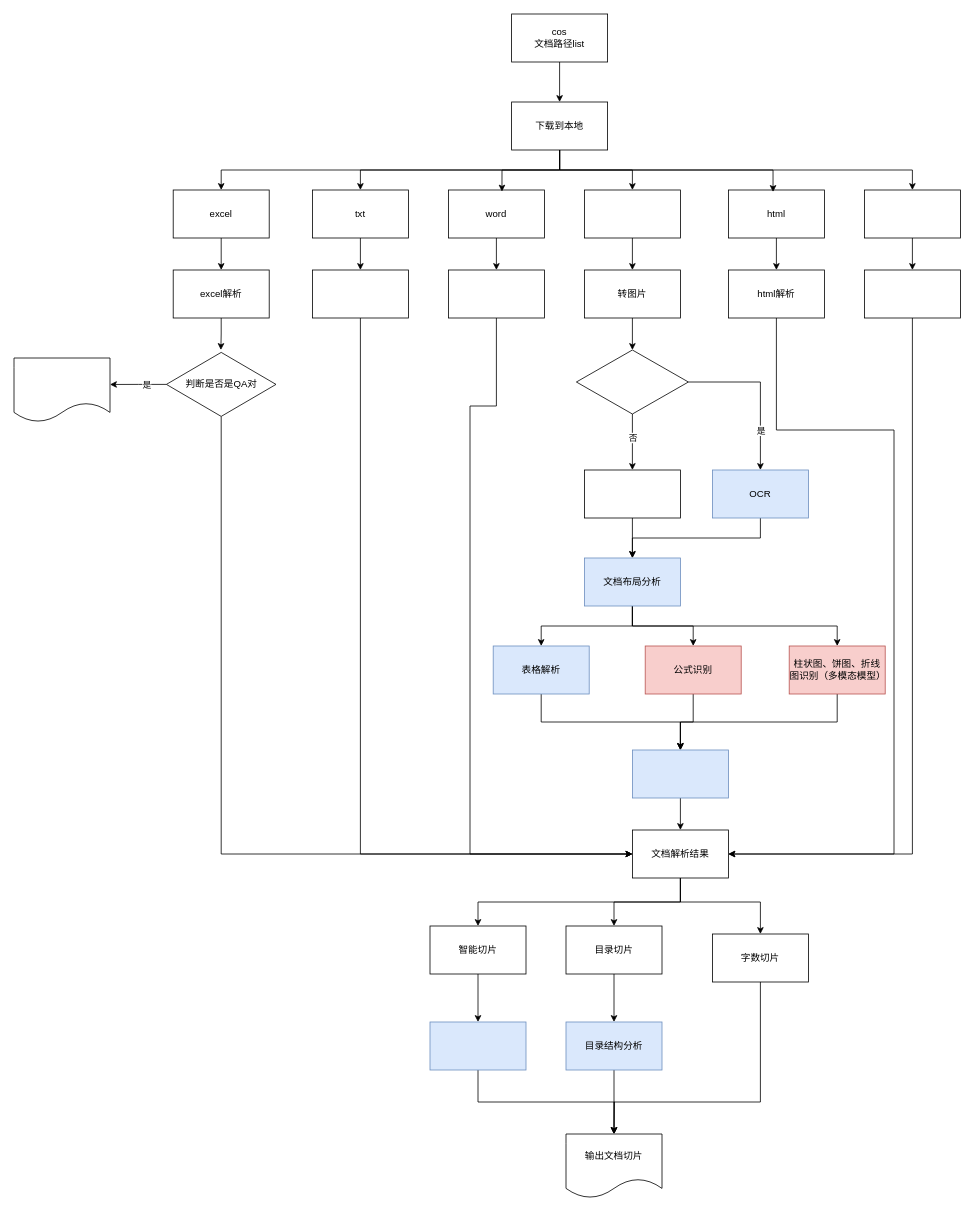
The diagram is 974 pixels wide and 1212 high, and some of its shapes have lost their labels. The shapes that lost their labels are listed below. From the top down, each one's centre as x and y in pixels, then its label:
At pixel 632 213: "pdf".
At pixel 912 213: "PPT".
At pixel 360 293: "txt解析".
At pixel 496 293: "word解析".
At pixel 912 293: "PPT解析".
At pixel 61 389: "输出QA对切片".
At pixel 632 381: "判断是否是图片pdf".
At pixel 632 493: "直接解析文字内容和位置".
At pixel 680 773: "阅读顺序".
At pixel 477 1045: "段落拆分模型（阿里 ）".
